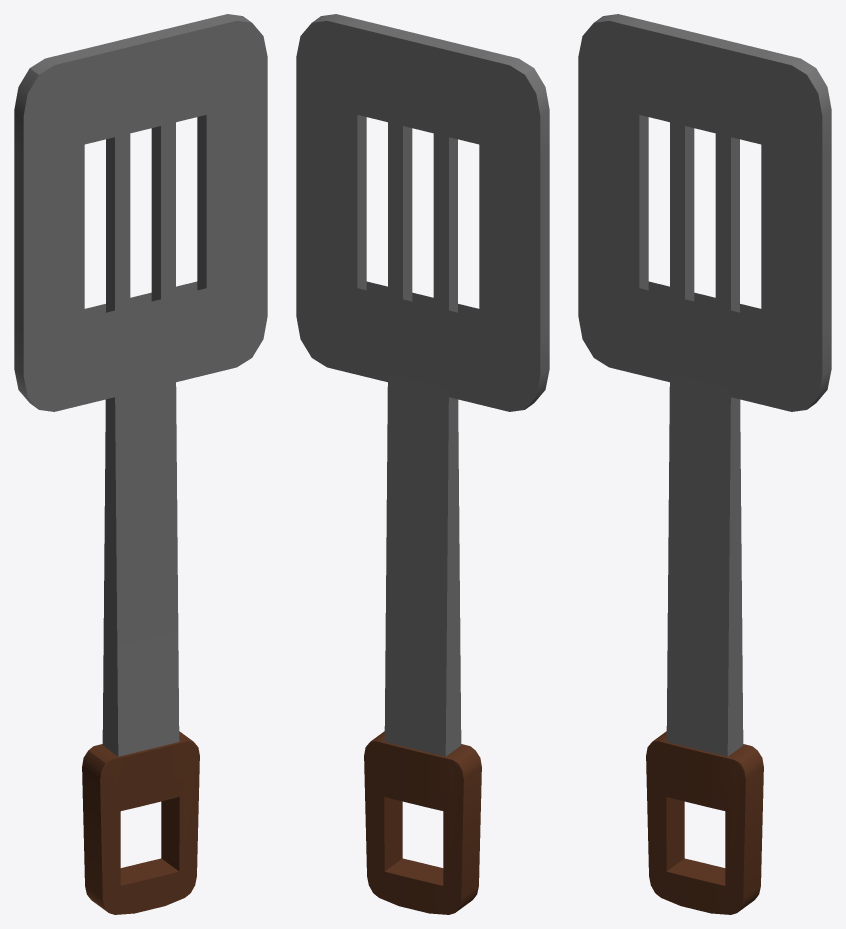
Rendered from spatula.fbx.
3 views of the same model, side by side, from view 1: azimuth 30°, elevation 25°; view 2: azimuth 150°, elevation 25°; view 3: azimuth 330°, elevation 25° (orthographic).
Visible parts, largest first — view 1: Cube.002; view 2: Cube.002; view 3: Cube.002.
Part boxes in pixels (x1,y1,x2,y2): Cube.002: (14,14,267,914); Cube.002: (296,14,549,914); Cube.002: (578,14,831,914).
Size of the model in its own units: 26.68 by 90.2 by 3.63.
